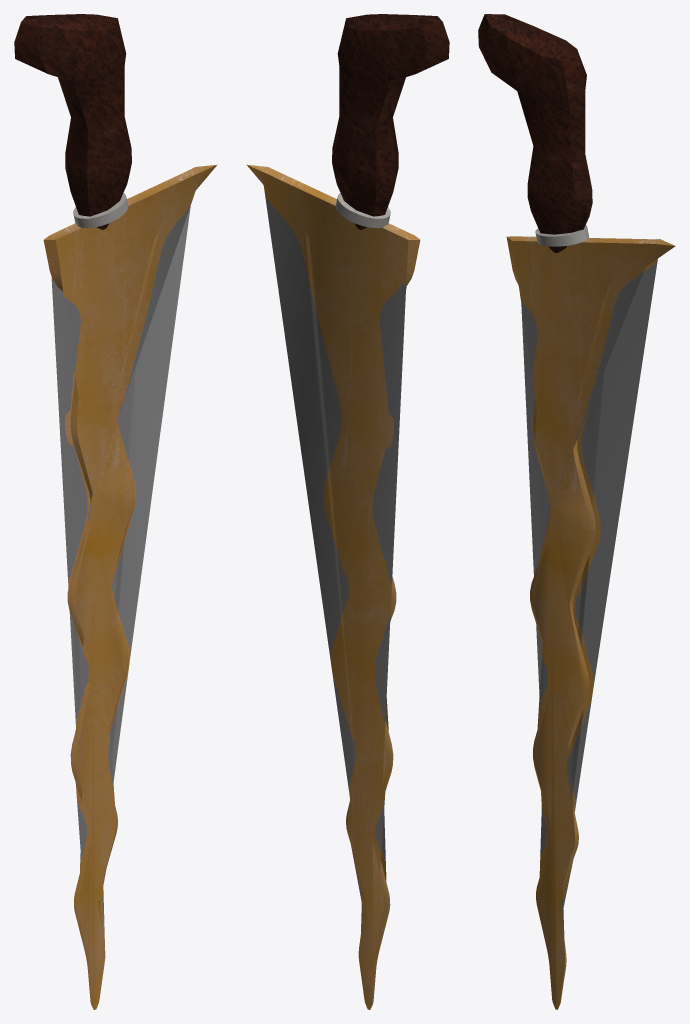
File: Keris Saja.fbx
3 renders of one model, left to right at view 1: azimuth 30°, elevation 25°; view 2: azimuth 150°, elevation 25°; view 3: azimuth 330°, elevation 25°, orthographic. The views are drawn at different scales.
Parts seen in each view (by area): view 1: keris; view 2: keris; view 3: keris.
Boxes of the visible parts, x1,y1,x2,y2 form: keris: (14, 14, 217, 1009); keris: (246, 14, 449, 1009); keris: (478, 14, 675, 1009).
Bounding box in the file's own units: 44.09 × 208 × 10.36.
